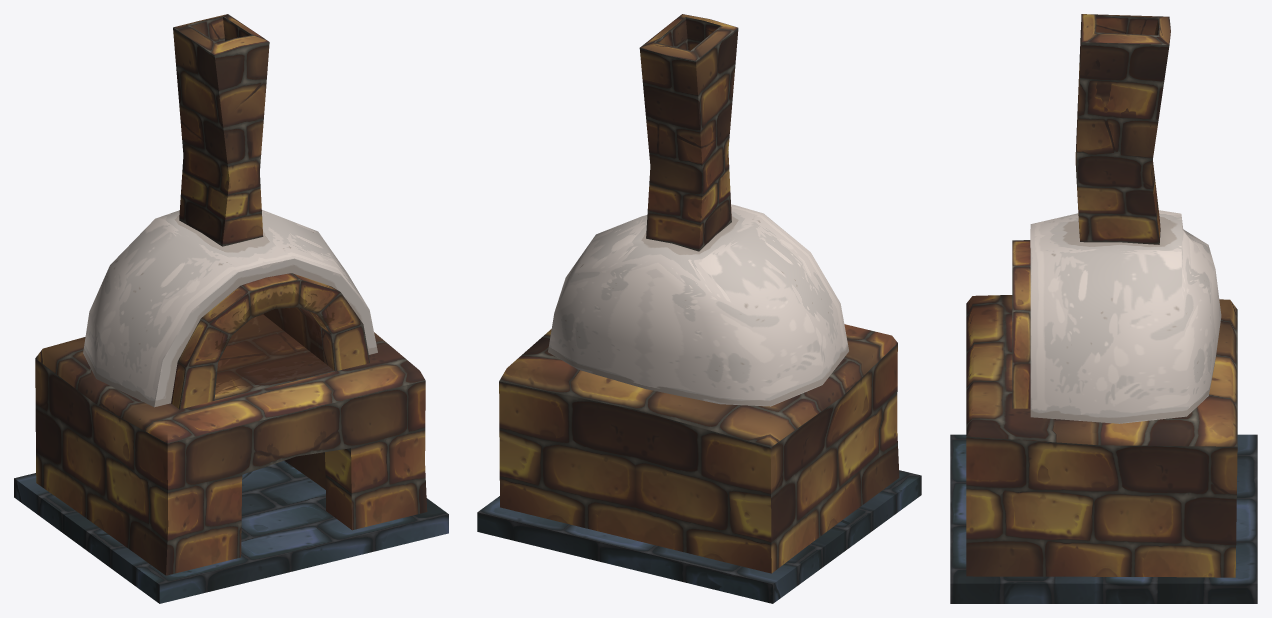
Rendered from SM_PROP_oven_interior.fbx.
The picture shows the model from 3 angles, left to right: view 1: azimuth 30°, elevation 25°; view 2: azimuth 150°, elevation 25°; view 3: azimuth 270°, elevation 25°; orthographic projection. The views are drawn at different scales.
Visible parts, largest first — view 1: SM_PROP_oven_interior; view 2: SM_PROP_oven_interior; view 3: SM_PROP_oven_interior.
Part boxes in pixels (x1,y1,x2,y2): SM_PROP_oven_interior: [14, 14, 448, 603]; SM_PROP_oven_interior: [477, 14, 921, 603]; SM_PROP_oven_interior: [950, 14, 1257, 603].
Size of what is drawn, in the model's own units: 155 by 245 by 135.
